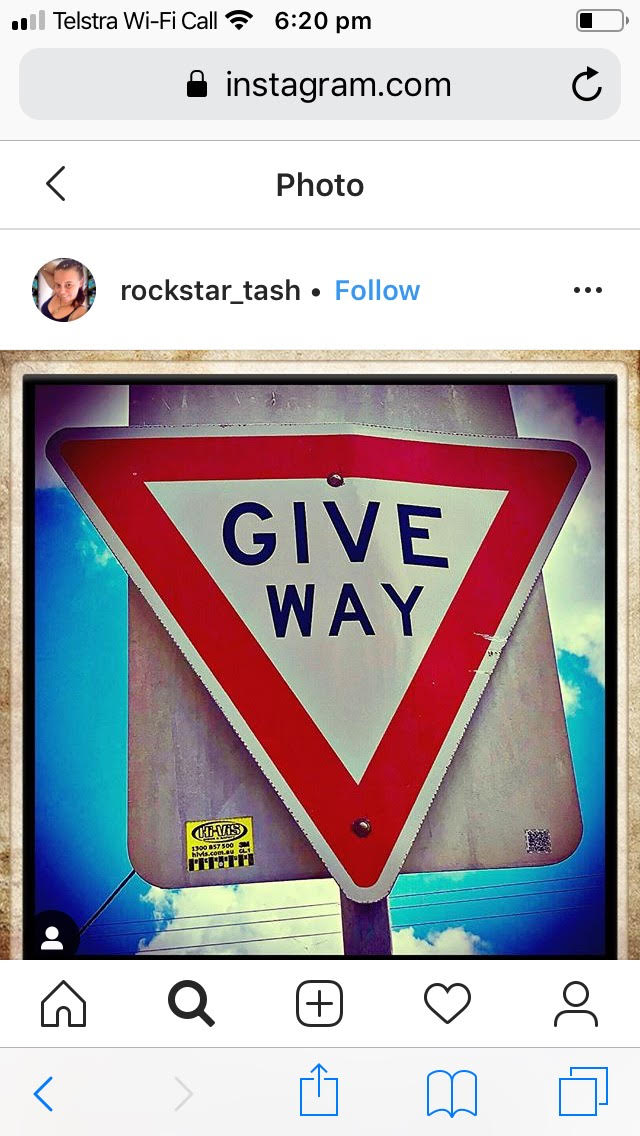giveway: (41, 419, 582, 814), (87, 525, 581, 756), (90, 442, 549, 667), (259, 422, 470, 900), (126, 430, 386, 741), (351, 434, 508, 797)
